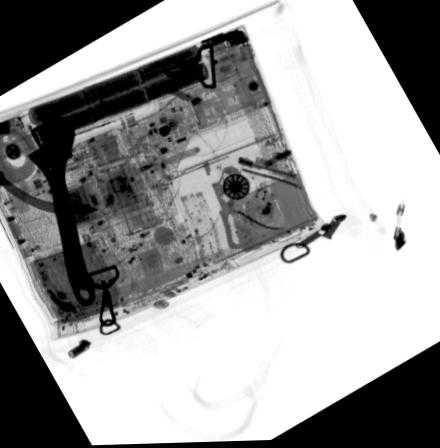Wrench: (26, 114, 96, 308)
